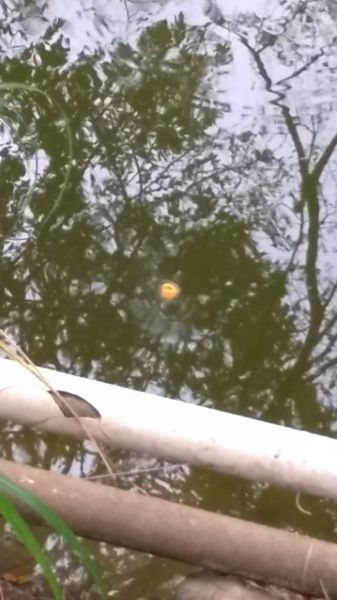eggs: (158, 277, 184, 305)
